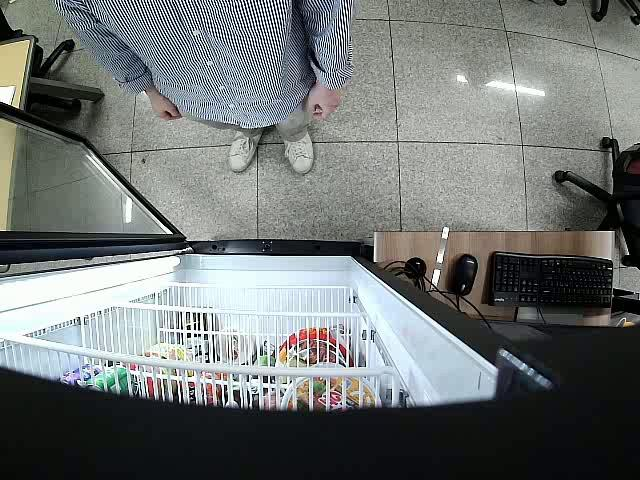00_hand: (309, 91, 341, 125), (149, 91, 182, 122)
